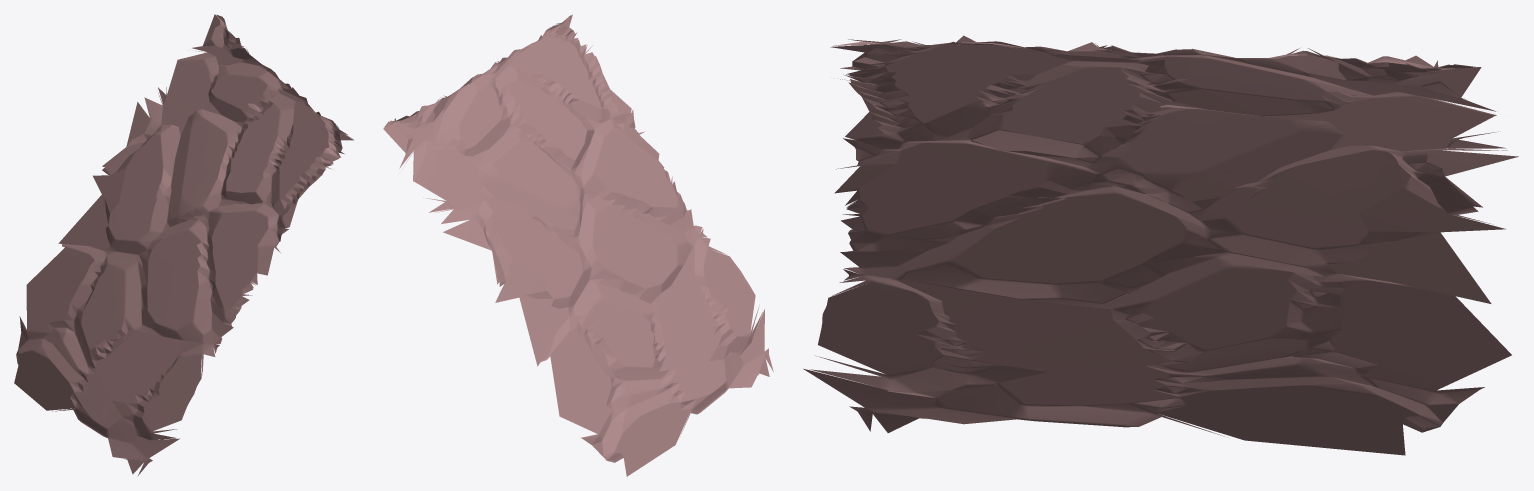
The model's file is plateau.fbx_Rock_Plateau_035LODs.fbx.
3 views of the same model, side by side, from view 1: azimuth 30°, elevation 25°; view 2: azimuth 150°, elevation 25°; view 3: azimuth 270°, elevation 25° (orthographic). The views are drawn at different scales.
Parts seen in each view (by area): view 1: Rock Plateau.035_LOD0; view 2: Rock Plateau.035_LOD0; view 3: Rock Plateau.035_LOD0.
Boxes of the visible parts, <box> form: Rock Plateau.035_LOD0: <box>14,14,353,476</box>; Rock Plateau.035_LOD0: <box>383,14,773,476</box>; Rock Plateau.035_LOD0: <box>803,35,1518,455</box>.
Size of what is drawn, in the model's own units: 2493 by 3120 by 3326.
